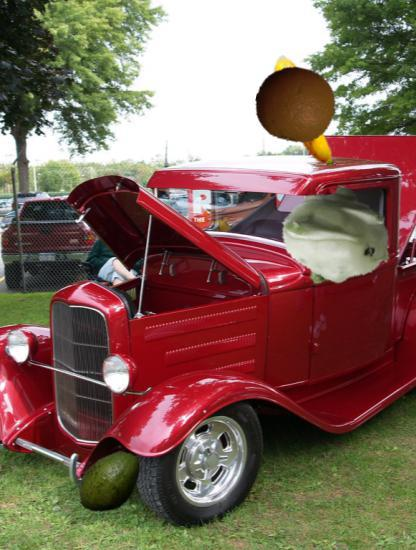Avocado: (75, 446, 148, 519)
Banana: (240, 51, 365, 176)
Kohlrabi: (280, 181, 394, 295)
Orange: (255, 64, 336, 145)
